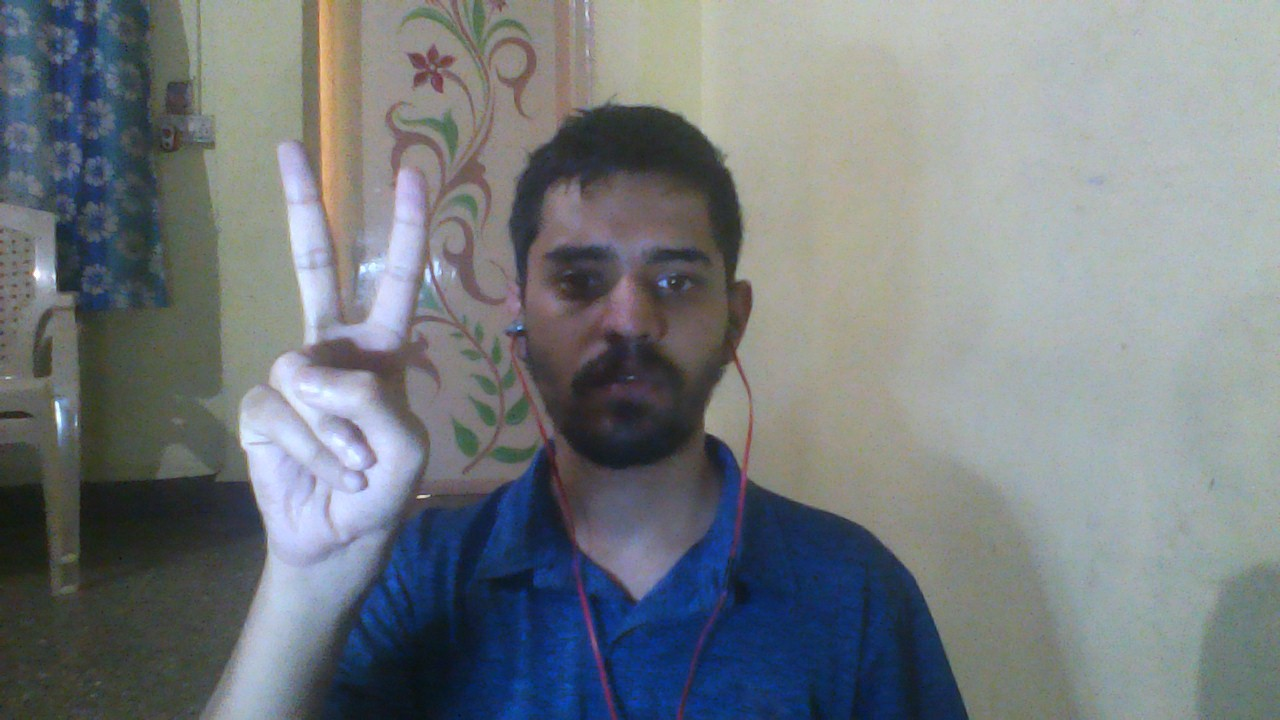v: (184, 117, 476, 639)
